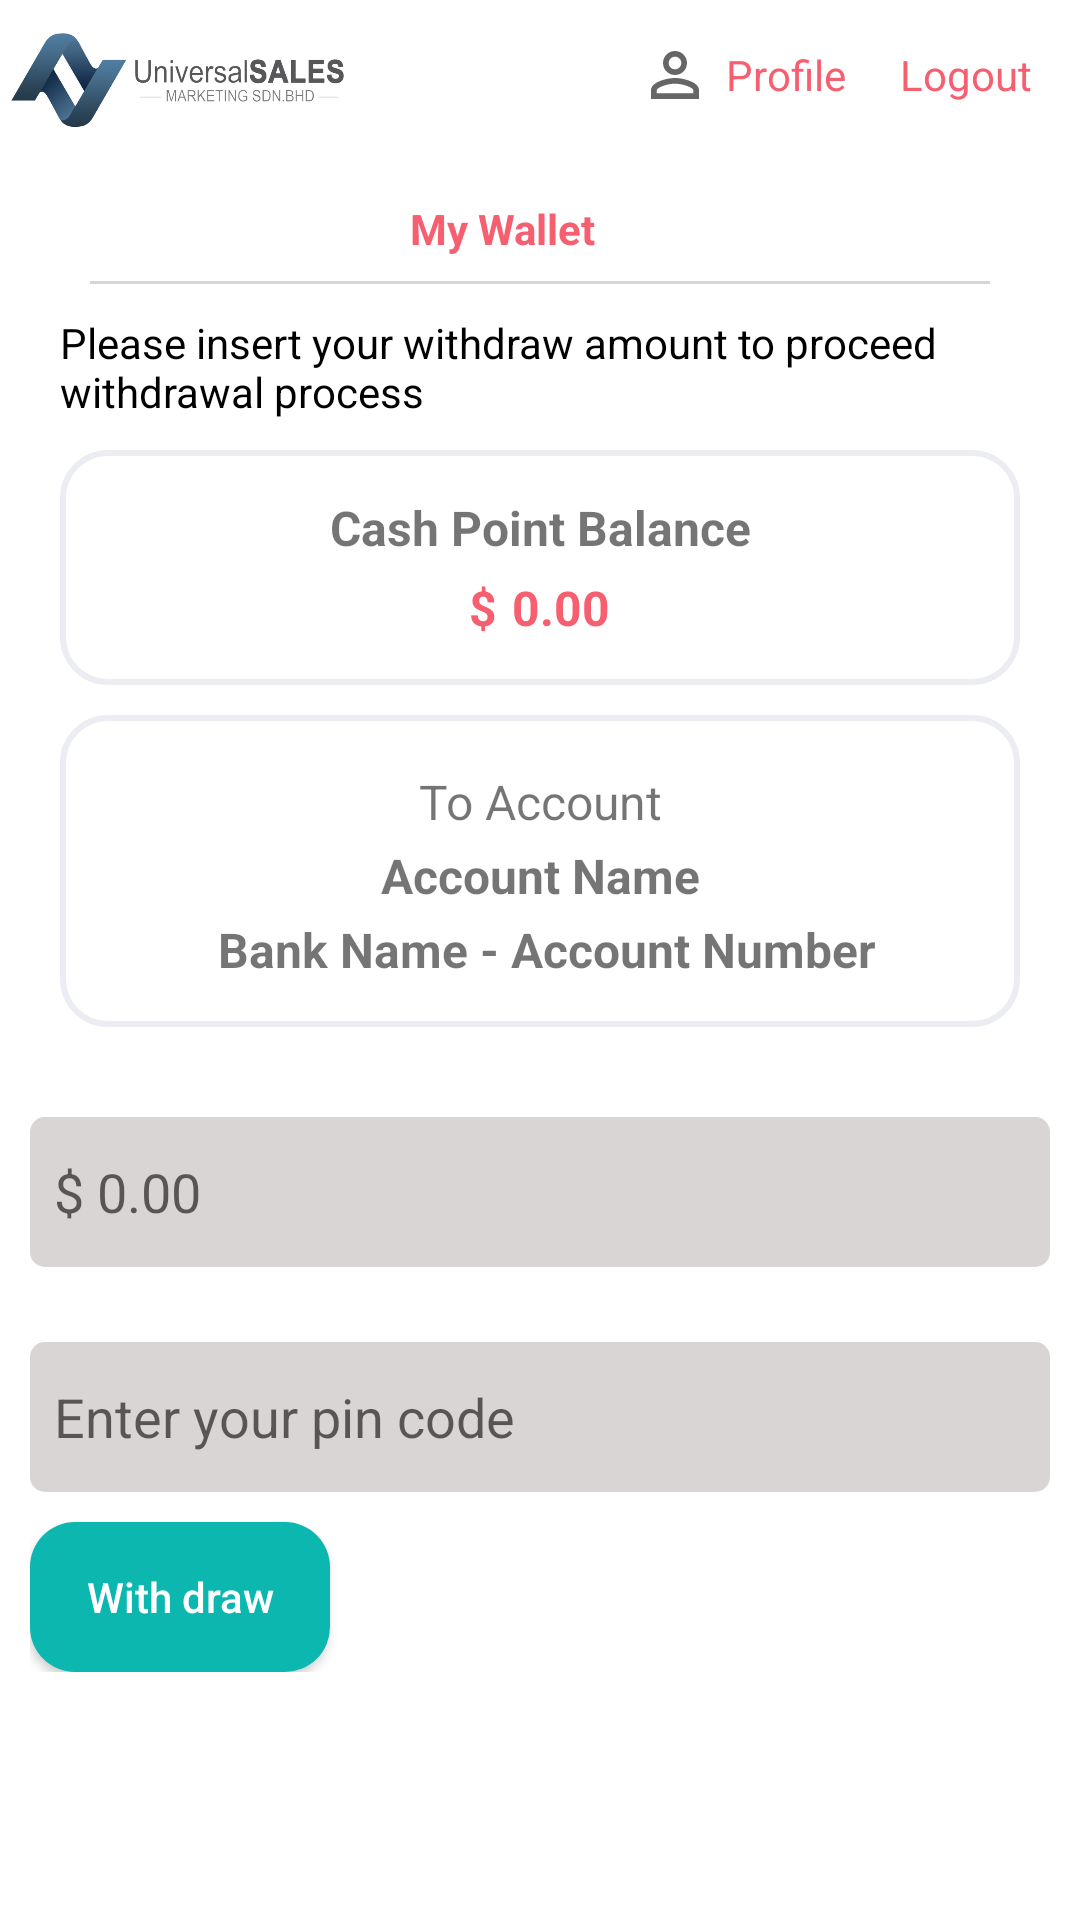

Where to tap for icons on this 1080px×1920px app screen, as (x=x, y=y):
person: (x=675, y=75)
